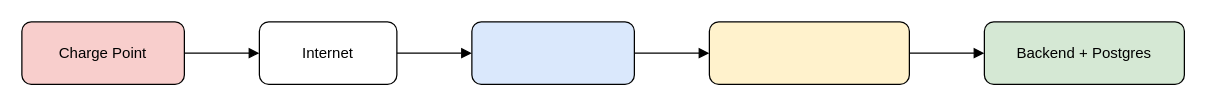
The diagram is 1206 pixels wide and 106 high, and some of its shapes have lost their labels. The shapes that lost their labels are listed below. From the top down, each one's box as (x1, y1, x2, y2) in pixels, then its label:
(471, 21, 634, 84): WSS TLS Caddy :443
(708, 21, 909, 84): OCPP Gateway /ocpp/IDENTITY
